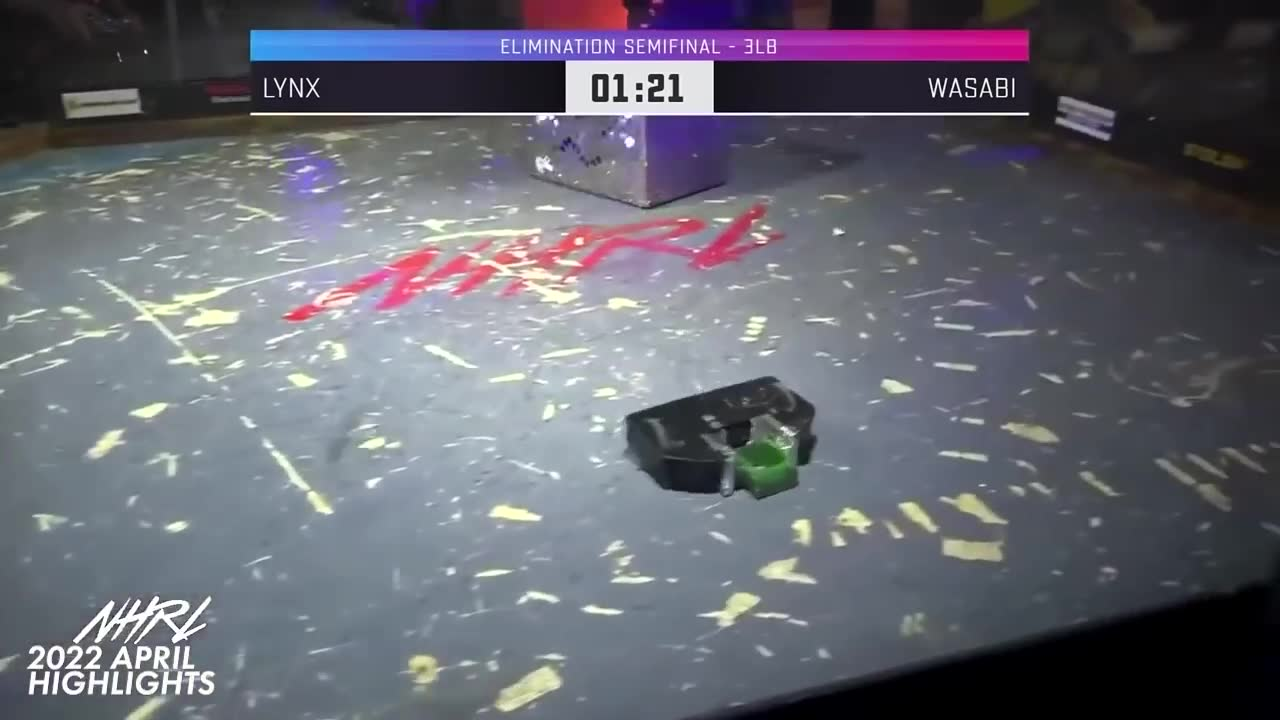combatbot: (625, 376, 818, 499)
housebot: (535, 114, 735, 206)
